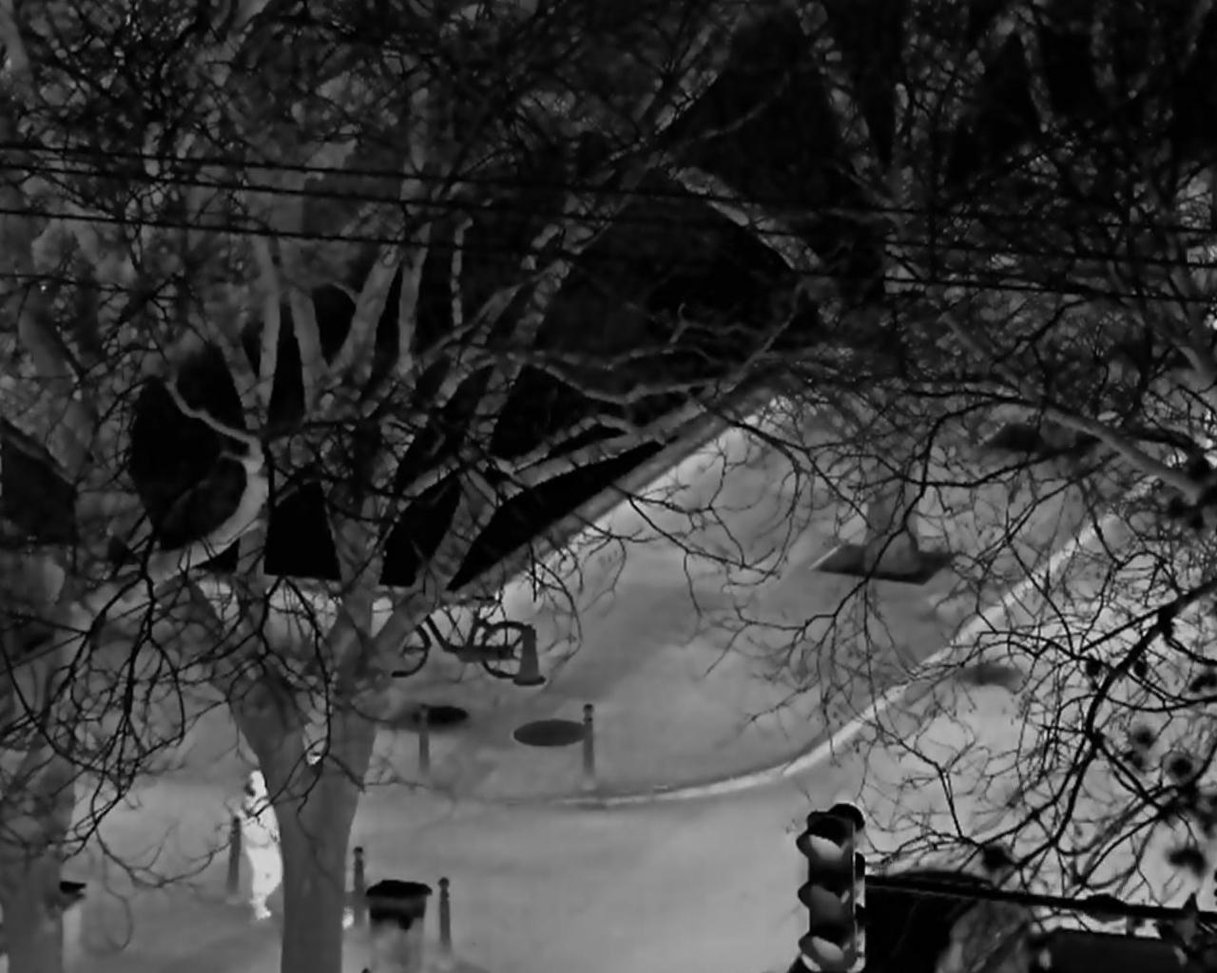person: (239, 771, 286, 921)
